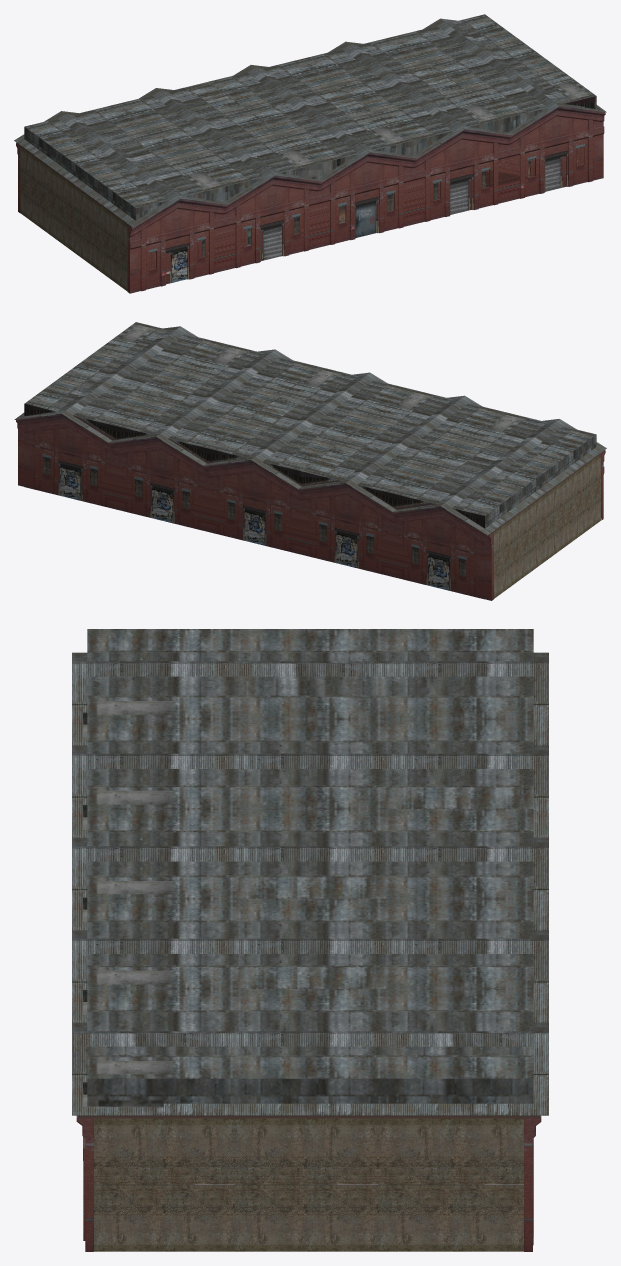
File: m99_warehouse.fbx
3 views of the same model, one above another, from view 1: azimuth 30°, elevation 25°; view 2: azimuth 150°, elevation 25°; view 3: azimuth 270°, elevation 25° (orthographic). The views are drawn at different scales.
Visible parts, largest first — view 1: m99_warehouse_LOD0; view 2: m99_warehouse_LOD0; view 3: m99_warehouse_LOD0.
Part boxes in pixels (left/top/right/bottom): m99_warehouse_LOD0: left=14, top=14, right=606, bottom=293; m99_warehouse_LOD0: left=14, top=322, right=606, bottom=600; m99_warehouse_LOD0: left=72, top=629, right=548, bottom=1251.
Size of what is drawn, in the model's own units: 86.2 by 15 by 37.58.
2 materials, 2 textured.
